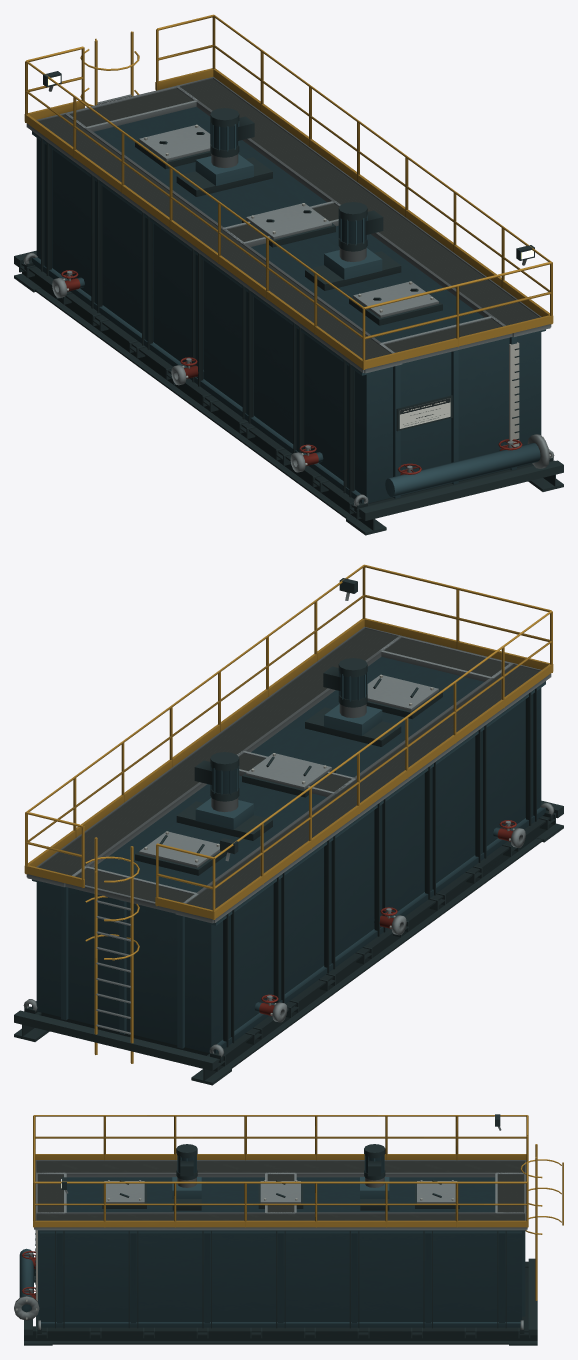
File: mud_tank_single_lodM.glb
The picture shows the model from 3 angles, top to bottom: view 1: azimuth 30°, elevation 25°; view 2: azimuth 150°, elevation 25°; view 3: azimuth 270°, elevation 25°; orthographic projection. The views are drawn at different scales.
Parts seen in each view (by area): view 1: tank_shell_blue, walkway_deck, handrails_yellow, skid_dark, external_stiffeners_dark, external_stiffeners_blue, walkway_steel, access_hatches_steel, suction_header_blue, agitator_2_dark, agitator_1_dark, access_hatches_dark (+7 smaller); view 2: tank_shell_blue, walkway_deck, handrails_yellow, skid_dark, external_stiffeners_blue, external_stiffeners_dark, walkway_steel, access_hatches_steel, agitator_1_dark, agitator_2_dark, access_ladder_yellow, access_hatches_dark (+5 smaller); view 3: tank_shell_blue, handrails_yellow, walkway_deck, skid_dark, external_stiffeners_blue, walkway_steel, access_hatches_steel, external_stiffeners_dark, agitator_1_dark, agitator_2_dark, access_ladder_yellow, access_hatches_dark (+4 smaller).
Part boxes in pixels (<box>): tank_shell_blue: <box>36,106,541,503</box>; walkway_deck: <box>38,78,538,359</box>; handrails_yellow: <box>24,14,553,369</box>; skid_dark: <box>14,250,563,535</box>; external_stiffeners_dark: <box>41,138,354,497</box>; external_stiffeners_blue: <box>32,131,545,503</box>; walkway_steel: <box>26,76,551,373</box>; access_hatches_steel: <box>139,125,438,317</box>; suction_header_blue: <box>385,443,540,497</box>; agitator_2_dark: <box>305,202,401,290</box>; agitator_1_dark: <box>176,108,272,196</box>; access_hatches_dark: <box>135,132,442,325</box>; tank_shell_blue: <box>36,656,541,1053</box>; walkway_deck: <box>39,628,539,909</box>; handrails_yellow: <box>24,564,553,919</box>; skid_dark: <box>14,800,563,1085</box>; external_stiffeners_blue: <box>32,681,545,1053</box>; external_stiffeners_dark: <box>223,688,536,1047</box>; walkway_steel: <box>26,626,551,923</box>; access_hatches_steel: <box>139,675,438,867</box>; agitator_1_dark: <box>176,752,272,840</box>; agitator_2_dark: <box>305,658,401,746</box>; access_ladder_yellow: <box>85,837,139,1063</box>; access_hatches_dark: <box>135,678,442,875</box>; tank_shell_blue: <box>39,1177,521,1321</box>; handrails_yellow: <box>33,1115,528,1227</box>; walkway_deck: <box>36,1161,525,1220</box>; skid_dark: <box>24,1258,537,1345</box>; external_stiffeners_blue: <box>36,1230,525,1327</box>; walkway_steel: <box>34,1160,527,1230</box>; access_hatches_steel: <box>104,1181,457,1203</box>; external_stiffeners_dark: <box>55,1230,506,1328</box>; agitator_1_dark: <box>360,1144,389,1210</box>; agitator_2_dark: <box>172,1144,201,1210</box>; access_ladder_yellow: <box>520,1144,563,1300</box>; access_hatches_dark: <box>102,1180,459,1208</box>.
Size of the model in its own units: 4 by 4 by 12.31.
10 materials, 10 textured.
